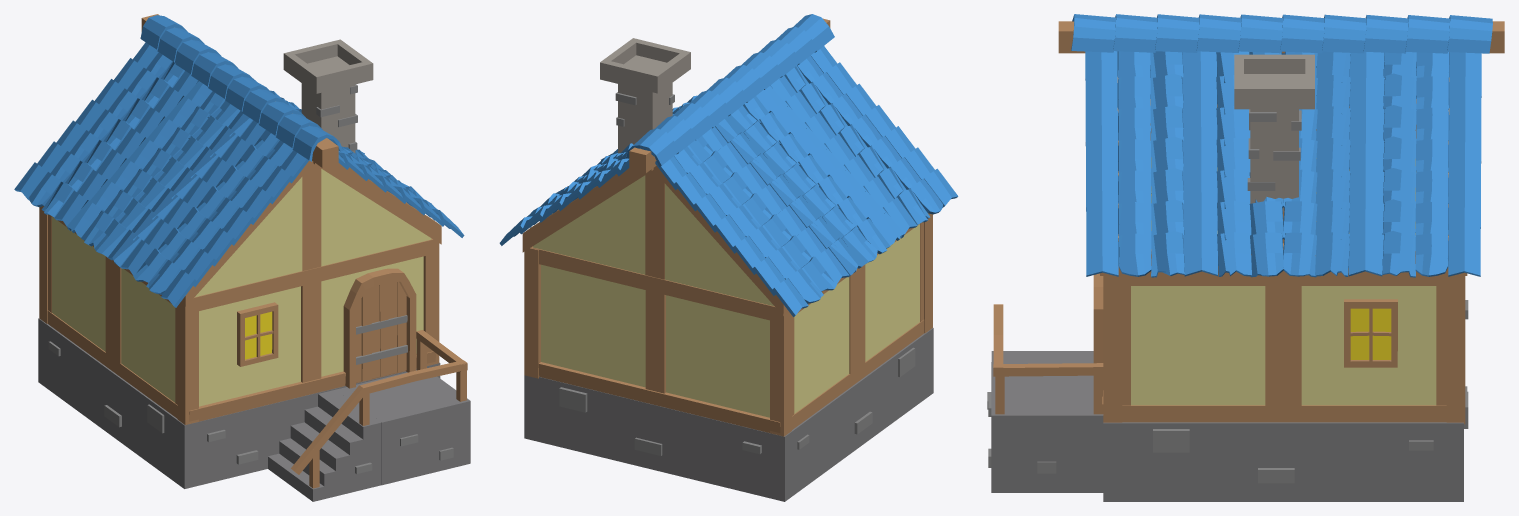
File: CasaAldeanos.fbx
The picture shows the model from 3 angles, left to right: view 1: azimuth 30°, elevation 25°; view 2: azimuth 150°, elevation 25°; view 3: azimuth 270°, elevation 25°; orthographic projection. The views are drawn at different scales.
Parts seen in each view (by area): view 1: Casa, Techo, BasePiedra, Puerta, Chimenea, PasaManos, Ventana; view 2: Casa, Techo, BasePiedra, Chimenea; view 3: Techo, Casa, BasePiedra, Chimenea, Ventana.001, PasaManos, Puerta.
Part boxes in pixels (x1,y1,x2,y2): Casa: (39,14,441,424); Techo: (14,15,464,307); BasePiedra: (38,318,470,501); Puerta: (343,268,416,388); Chimenea: (283,39,373,153); PasaManos: (291,330,467,488); Ventana: (237,302,278,366); Casa: (522,18,932,436); Techo: (499,14,958,316); BasePiedra: (524,328,933,501); Chimenea: (600,38,690,153); Techo: (1071,14,1492,277); Casa: (1058,21,1504,424); BasePiedra: (987,300,1468,501); Chimenea: (1234,54,1314,211); Ventana.001: (1344,299,1397,367); PasaManos: (993,304,1103,414); Puerta: (1093,273,1103,389).
Size of the model in its own units: 5 by 5.29 by 6.06.
